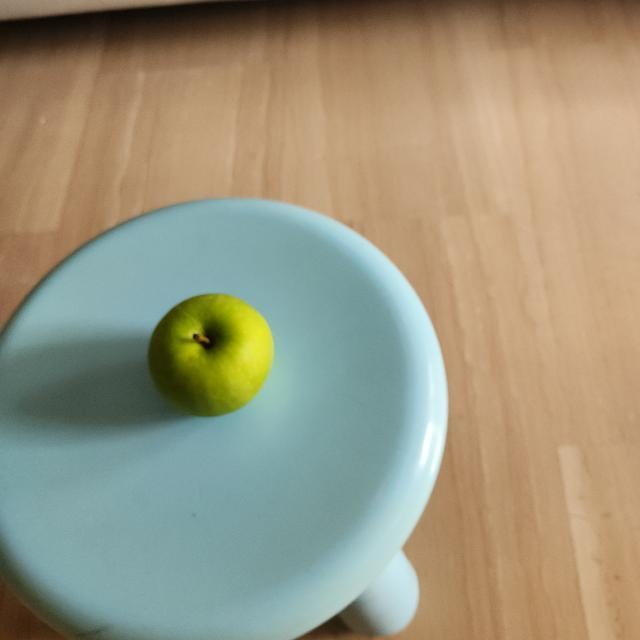apple: (143, 284, 276, 426)
